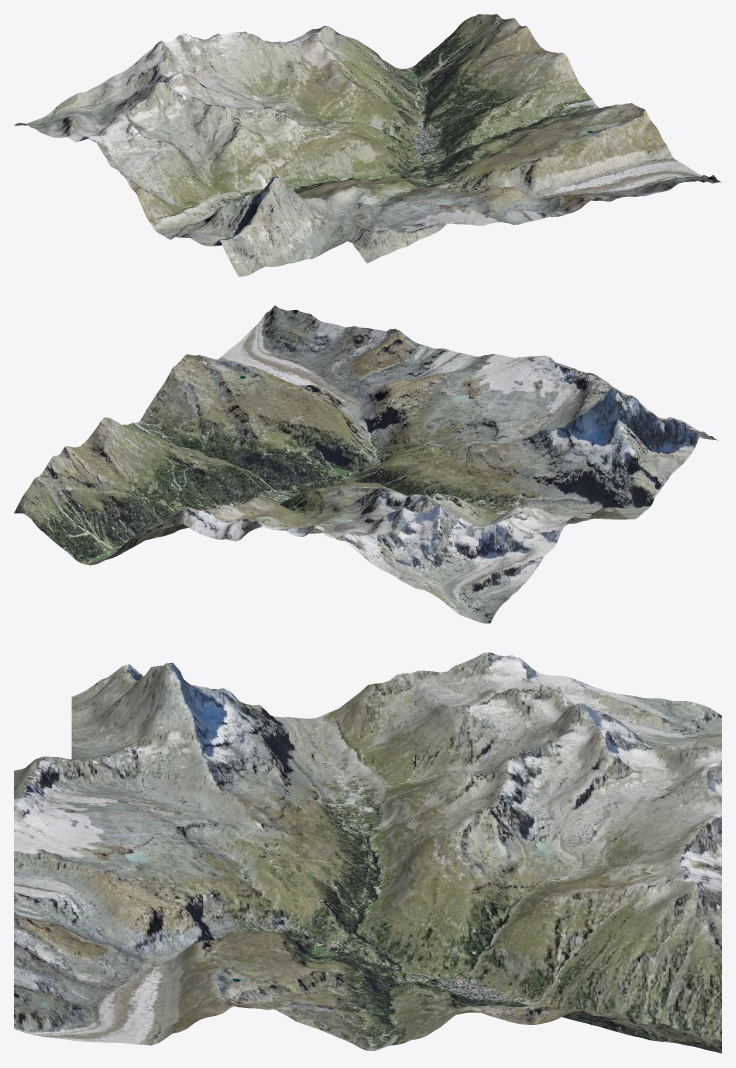
The model's file is zermatt-3d.gltf.
3 views of the same model, one above another, from view 1: azimuth 30°, elevation 25°; view 2: azimuth 150°, elevation 25°; view 3: azimuth 270°, elevation 25° (orthographic). The views are drawn at different scales.
Parts seen in each view (by area): view 1: Reprojected; view 2: Reprojected; view 3: Reprojected.
Boxes of the visible parts, x1,y1,x2,y2 form: Reprojected: (14,14,721,276); Reprojected: (14,305,718,623); Reprojected: (14,652,721,1053).
Size of the model in its own units: 12909 by 2923 by 11823.
1 material, 1 textured.
